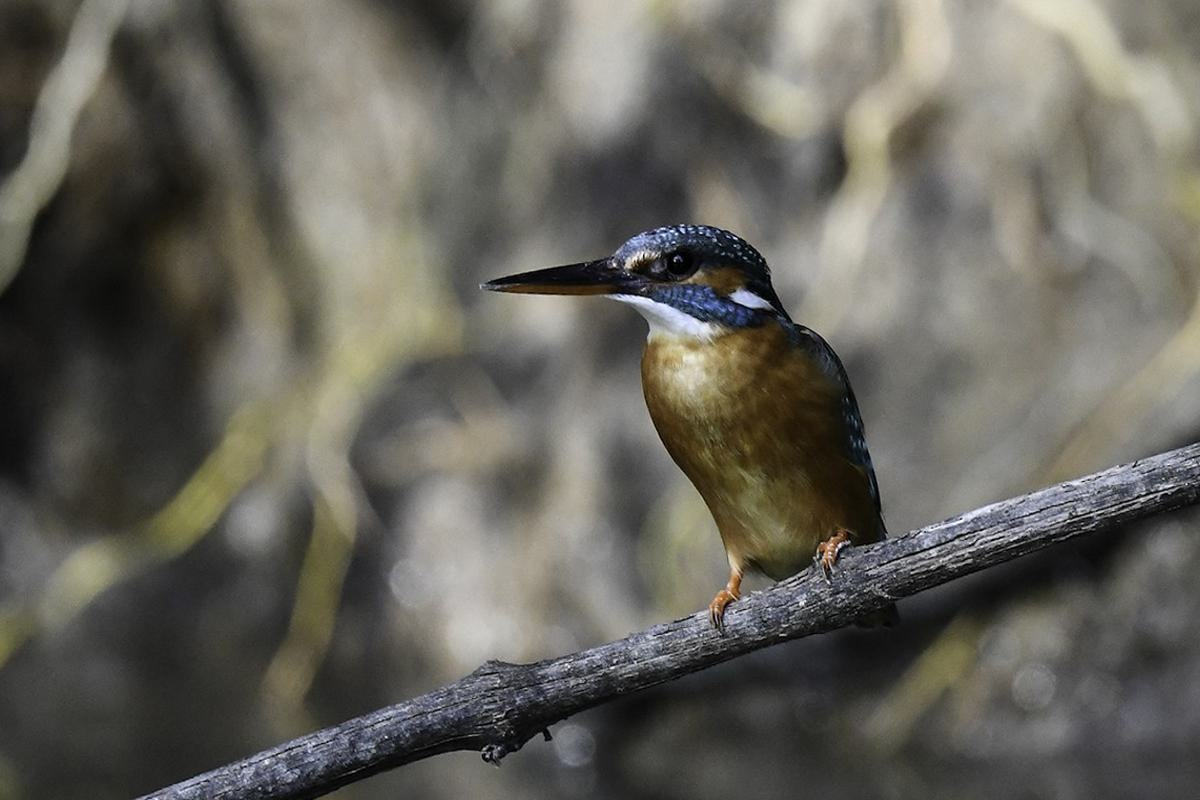kingfisher: (490, 222, 894, 594)
